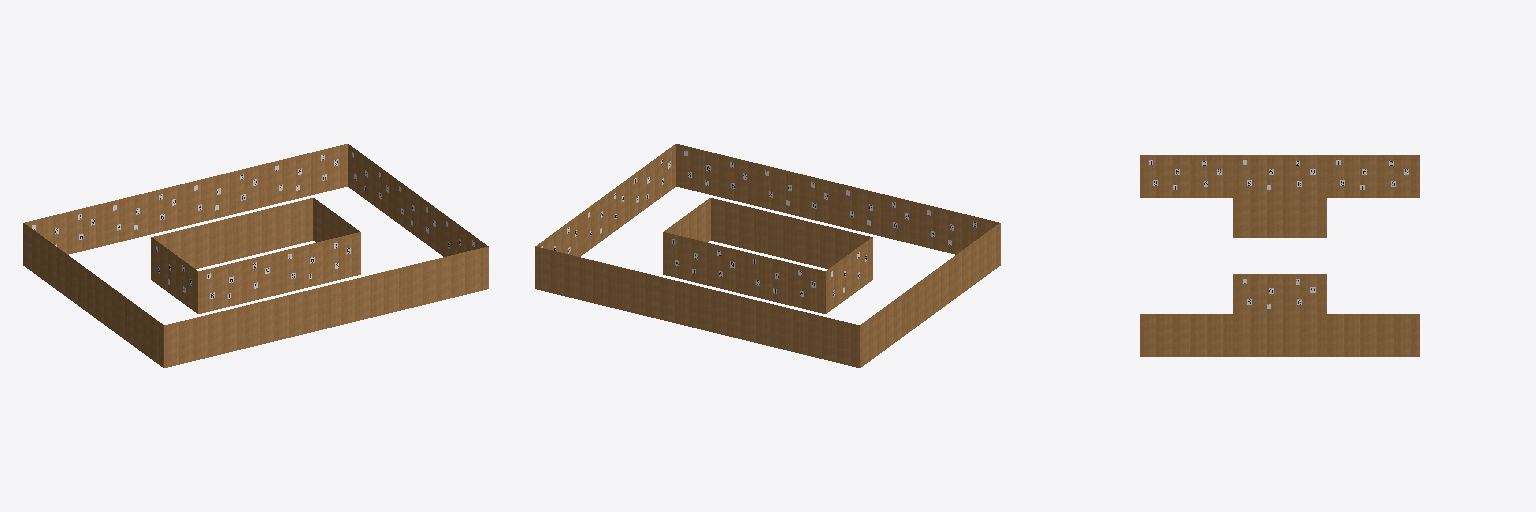
3 renders of one model, left to right at view 1: azimuth 30°, elevation 25°; view 2: azimuth 150°, elevation 25°; view 3: azimuth 270°, elevation 25°, orthographic.
Visible parts, largest first — view 1: wall_1.013, wall_1.011, wall_1.003, wall_1.010, wall_1.017, wall_1, wall_1.001, wall_1.014, wall_1.015, wall_1.004, wall_1.005, wall_1.016 (+8 smaller); view 2: wall_1.003, wall_1.005, wall_1.004, wall_1.013, wall_1.016, wall_1, wall_1.001, wall_1.014, wall_1.015, wall_1.010, wall_1.011, wall_1.017 (+8 smaller); view 3: wall_1.002, wall_1.012, wall_1.007, wall_1.008, wall_1.018, wall_1.019, wall_1.006, wall_1.020.
Boxes of the visible parts, x1,y1,x2,y2 form: wall_1.013: [407, 247, 488, 308]; wall_1.011: [198, 252, 279, 313]; wall_1.003: [267, 144, 347, 205]; wall_1.010: [280, 232, 360, 293]; wall_1.017: [164, 306, 244, 367]; wall_1: [186, 163, 266, 225]; wall_1.001: [105, 183, 185, 245]; wall_1.014: [245, 286, 325, 348]; wall_1.015: [326, 266, 406, 328]; wall_1.004: [232, 198, 312, 259]; wall_1.005: [151, 218, 232, 268]; wall_1.016: [25, 203, 104, 254]; wall_1.003: [535, 247, 616, 308]; wall_1.005: [744, 252, 825, 313]; wall_1.004: [663, 232, 743, 293]; wall_1.013: [676, 144, 756, 205]; wall_1.016: [779, 306, 859, 367]; wall_1: [617, 266, 697, 328]; wall_1.001: [698, 286, 778, 348]; wall_1.014: [838, 183, 918, 245]; wall_1.015: [757, 163, 837, 225]; wall_1.010: [711, 198, 791, 259]; wall_1.011: [791, 218, 872, 268]; wall_1.017: [919, 203, 998, 254]; wall_1.002: [1233, 314, 1326, 356]; wall_1.012: [1233, 195, 1326, 237]; wall_1.007: [1140, 314, 1232, 356]; wall_1.008: [1327, 314, 1419, 356]; wall_1.018: [1327, 155, 1419, 197]; wall_1.019: [1140, 155, 1232, 197]; wall_1.006: [1233, 274, 1326, 313]; wall_1.020: [1233, 155, 1326, 194].
Bounding box in the file's own units: 8.02 × 1 × 6.02.
Materials: 42 (2 with a texture image).